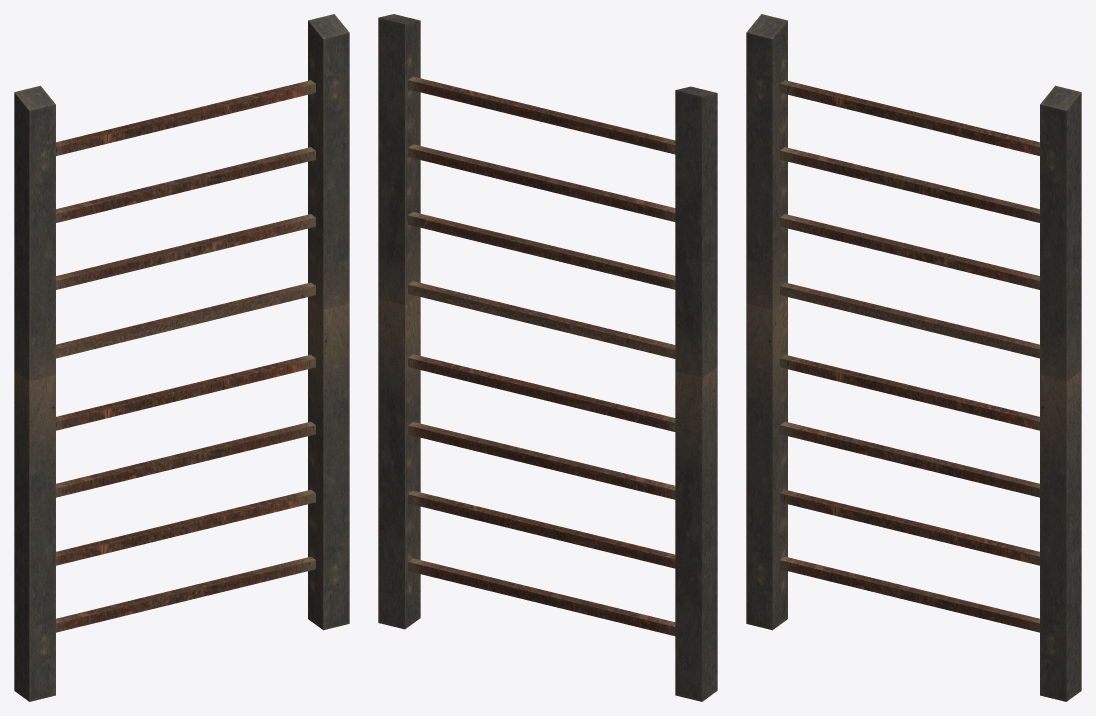
File: DesertBarrier 3 (Dark).glb
3 views of the same model, side by side, from view 1: azimuth 30°, elevation 25°; view 2: azimuth 150°, elevation 25°; view 3: azimuth 330°, elevation 25° (orthographic).
Visible parts, largest first — view 1: var3_var3_0.003; view 2: var3_var3_0.003; view 3: var3_var3_0.003.
Part boxes in pixels (left/top/right/bottom): var3_var3_0.003: left=14, top=14, right=349, bottom=701; var3_var3_0.003: left=378, top=14, right=717, bottom=701; var3_var3_0.003: left=746, top=14, right=1081, bottom=701.
Bounding box in the file's own units: 1.51 × 2.71 × 0.125.
1 material, 1 textured.
